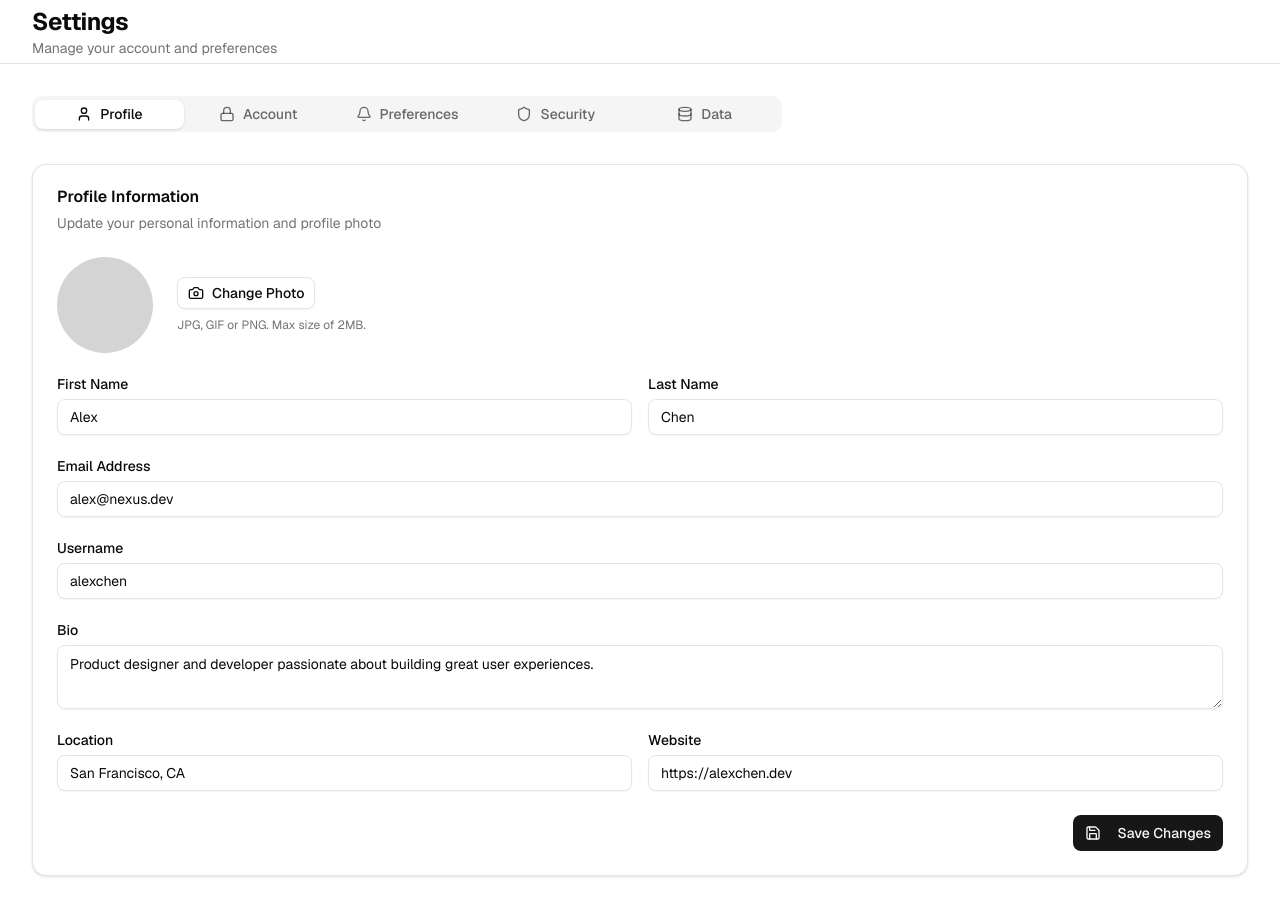
Test case: SettingsPage › renders notification settings
Click the tab "Preferences": (407, 114) top-left (333, 100), bottom-right (481, 128)
(page scrolled)
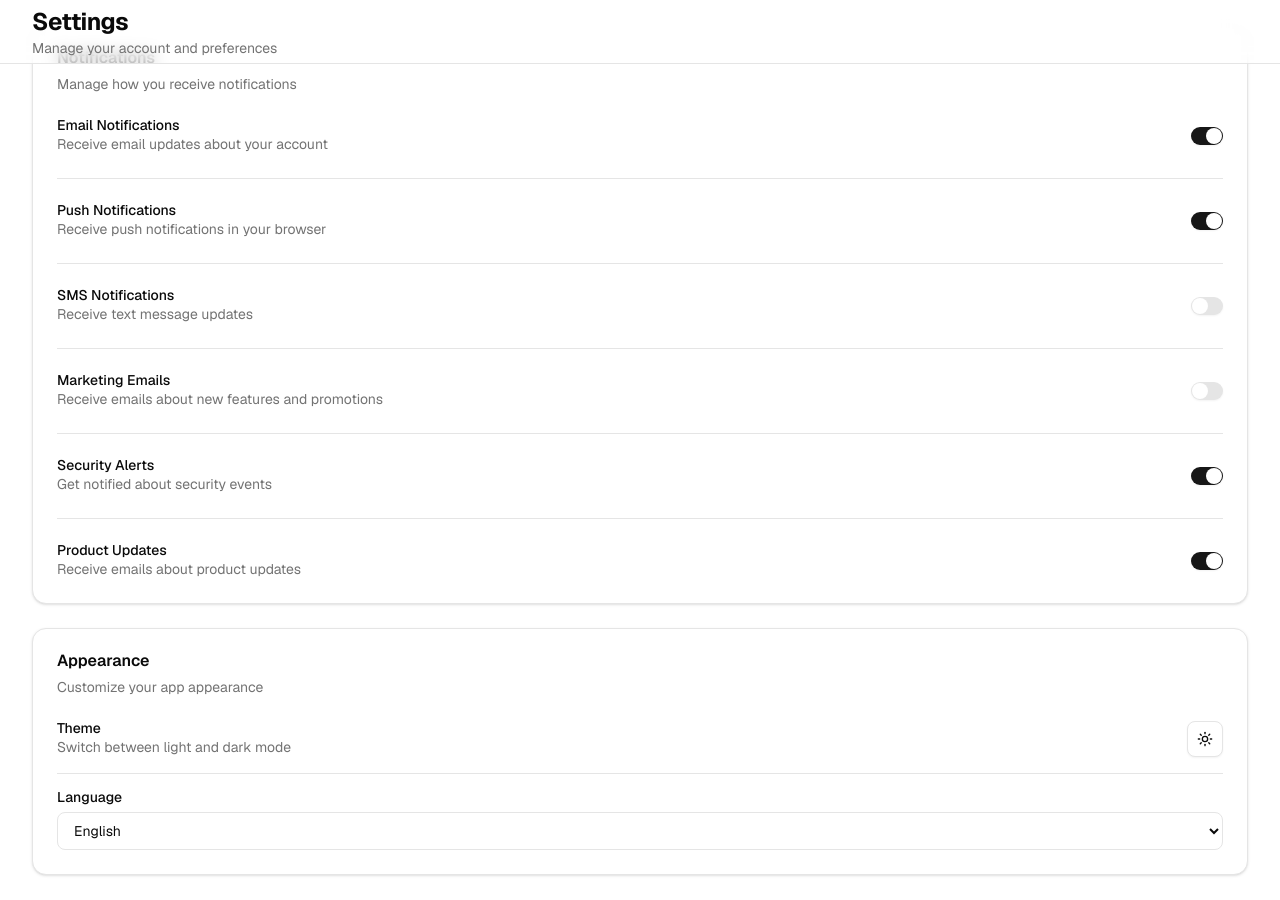
Expected: the panel is shown
